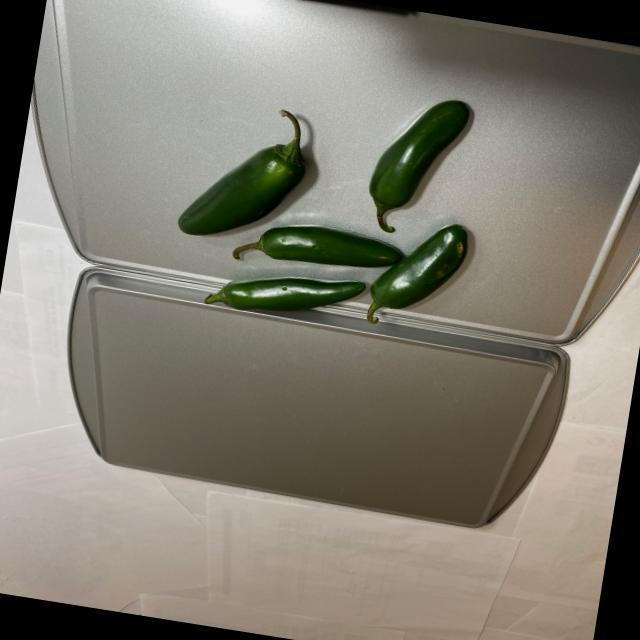chilli: (158, 54, 504, 357)
